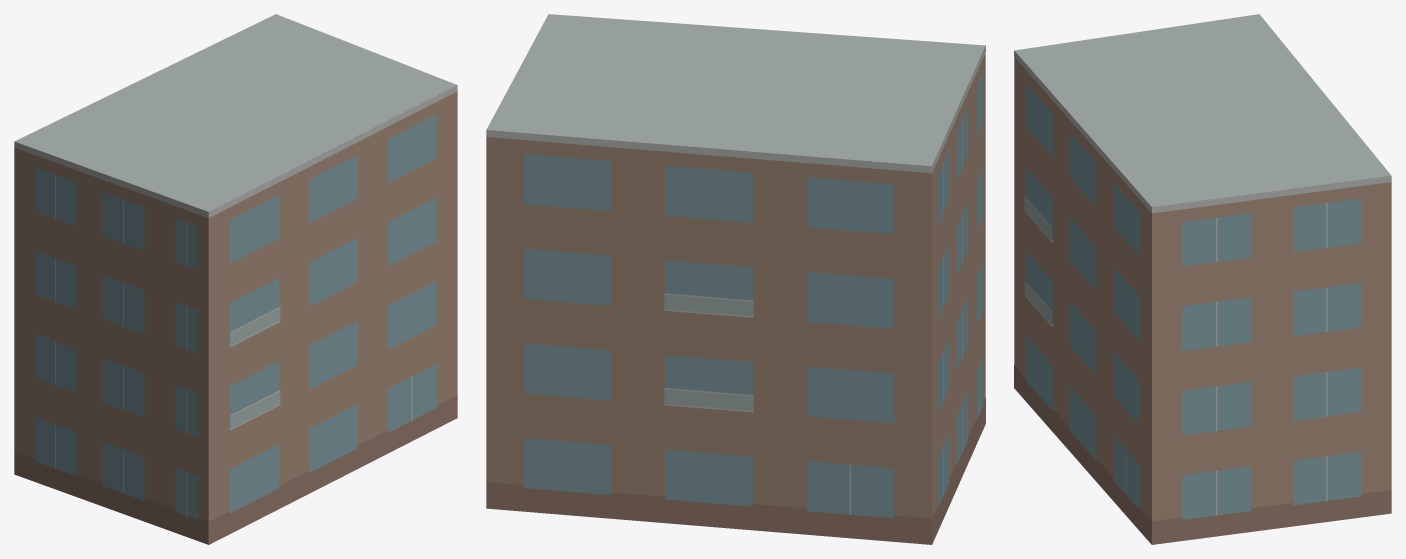
File: survey-upis-32673902.glb
3 views of the same model, side by side, from view 1: azimuth 30°, elevation 25°; view 2: azimuth 150°, elevation 25°; view 3: azimuth 270°, elevation 25° (orthographic). The views are drawn at different scales.
Visible parts, largest first — view 1: survey-upis-32673902.tmp; view 2: survey-upis-32673902.tmp; view 3: survey-upis-32673902.tmp.
Boxes of the visible parts, x1,y1,x2,y2 form: survey-upis-32673902.tmp: (14, 14, 457, 544); survey-upis-32673902.tmp: (486, 14, 985, 544); survey-upis-32673902.tmp: (1014, 14, 1391, 544).
Bounding box in the file's own units: 16.2 × 13.2 × 13.38.
